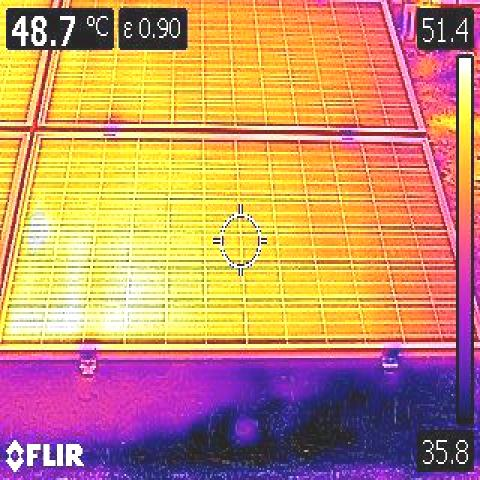fault: (27, 211, 45, 257)
